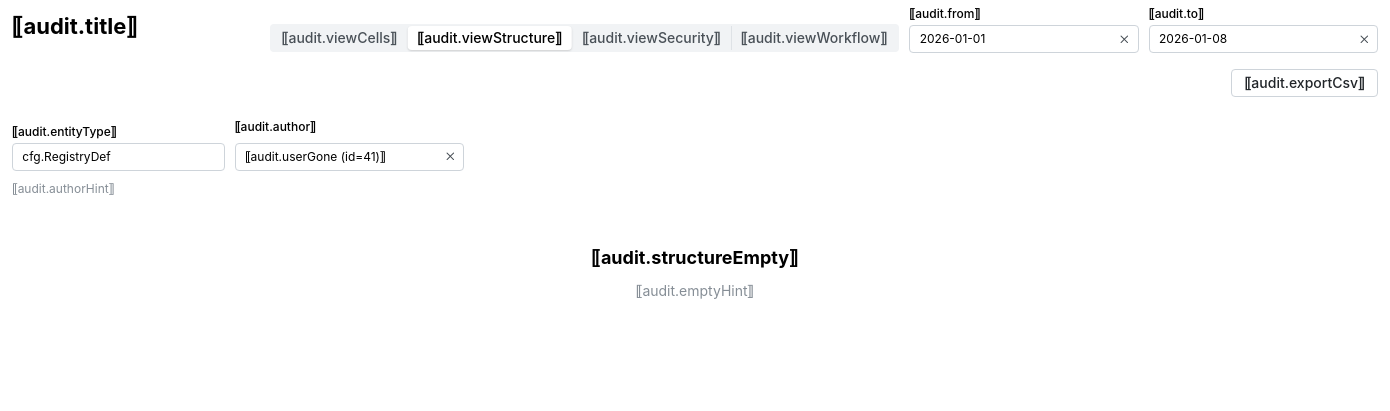
Test: AuditPage: експорт журналу структурних змін у CSV › 422 auditExportTooLarge → банер із кодом сервера, файлу немає, кнопка знову доступна
What coordinates should you click on to do the following:
click the button "⟦audit.exportCsv⟧"
I would click on:
 (1305, 83)
Its box is top-left (1231, 69), bottom-right (1378, 97).
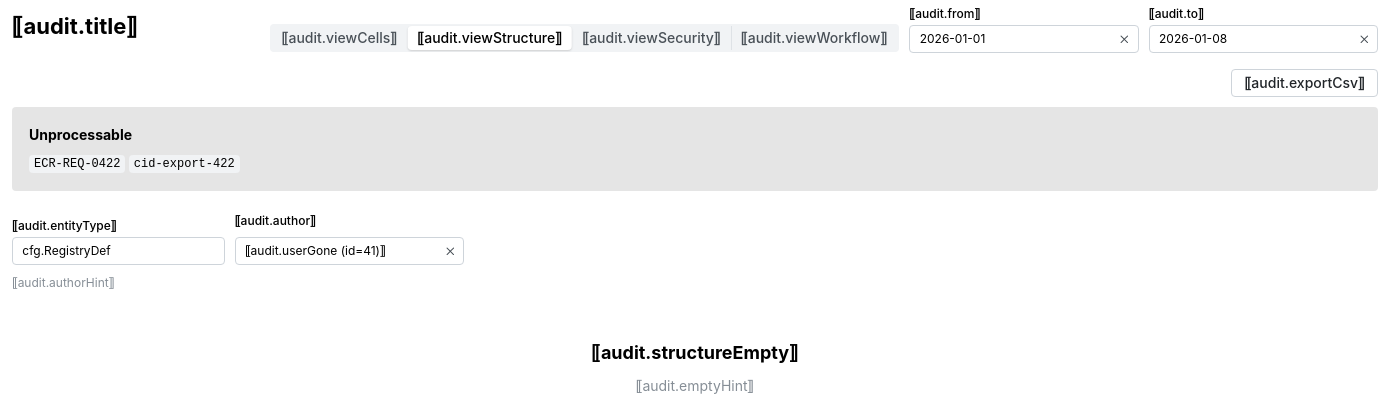
expect the message shows "ECR-REQ-0422": met, box top-left (34, 158), bottom-right (120, 172)
expect the message shows "cid-export-422": met, box top-left (134, 158), bottom-right (235, 172)
